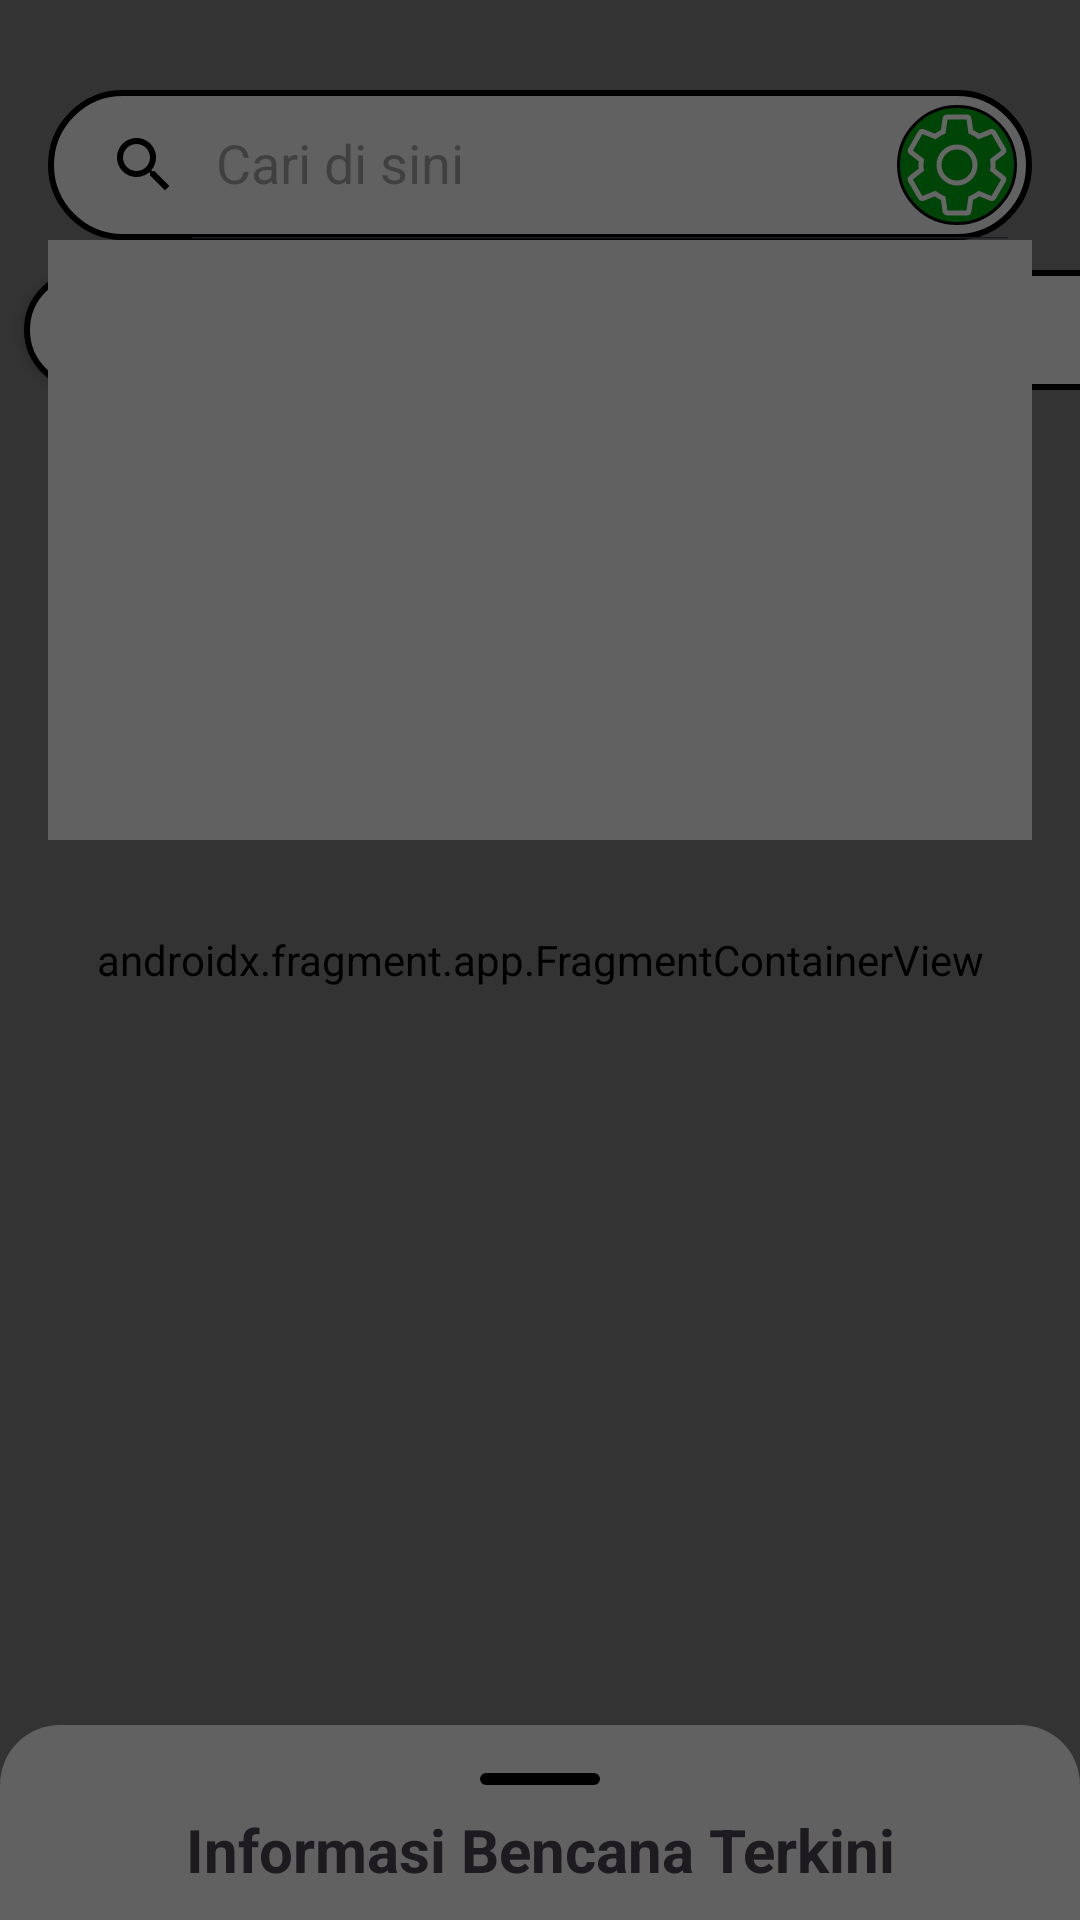

Where icons sit on this 1080*1920 app screen, as box=[x1, y1, x2, y2]:
Tombol Pengaturan: box=[897, 105, 1017, 225]
